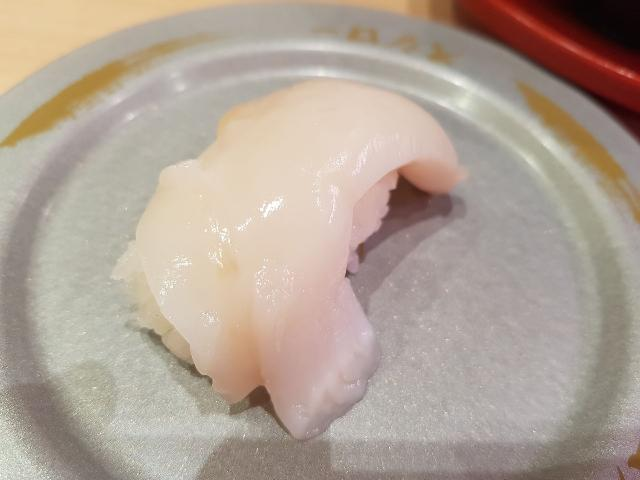janred: (457, 0, 640, 104)
janwhite: (11, 25, 640, 480)
